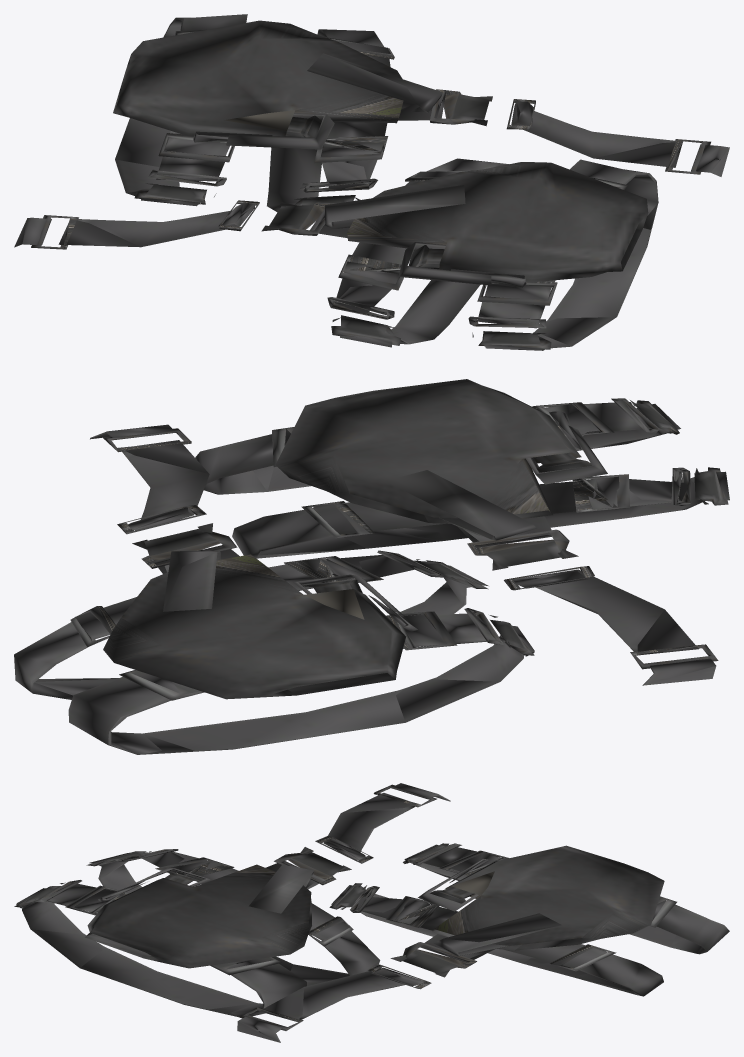
Rendered from GunRunnersHolsterDouble_Ground.fbx.
3 views of the same model, one above another, from view 1: azimuth 30°, elevation 25°; view 2: azimuth 150°, elevation 25°; view 3: azimuth 270°, elevation 25° (orthographic). The views are drawn at different scales.
Parts seen in each view (by area): view 1: GunRunnerHolster; view 2: GunRunnerHolster; view 3: GunRunnerHolster.
Boxes of the visible parts, bbox=[...] form: GunRunnerHolster: bbox=[14, 14, 729, 350]; GunRunnerHolster: bbox=[14, 379, 729, 754]; GunRunnerHolster: bbox=[14, 783, 729, 1042].
Size of the model in its own units: 0.2249 by 0.0193 by 0.2646.
